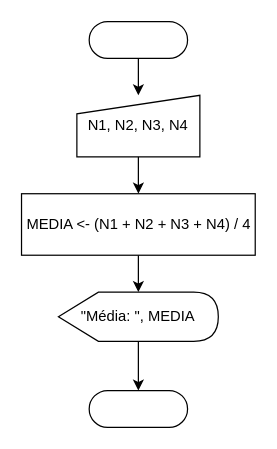
This 277x449 diagram has some shape labels left out. Each missing label, with the box of its shape:
FIM: (88, 389, 188, 427)
INICIO: (88, 20, 188, 58)
